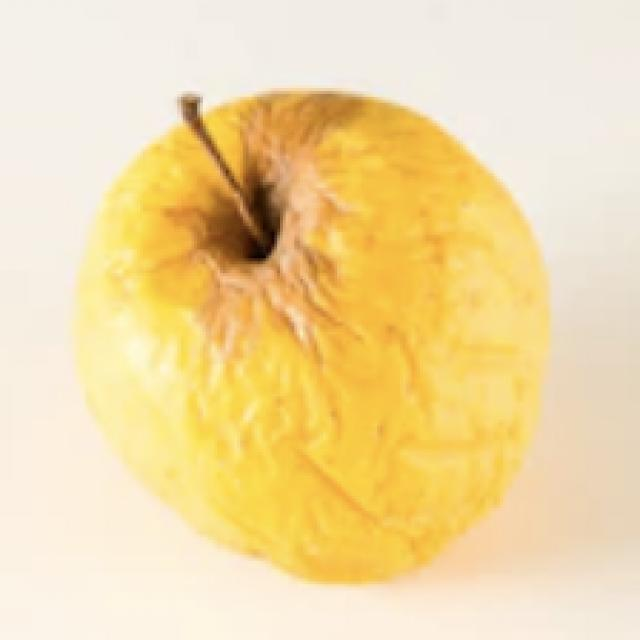Rotten: (74, 82, 554, 585)
